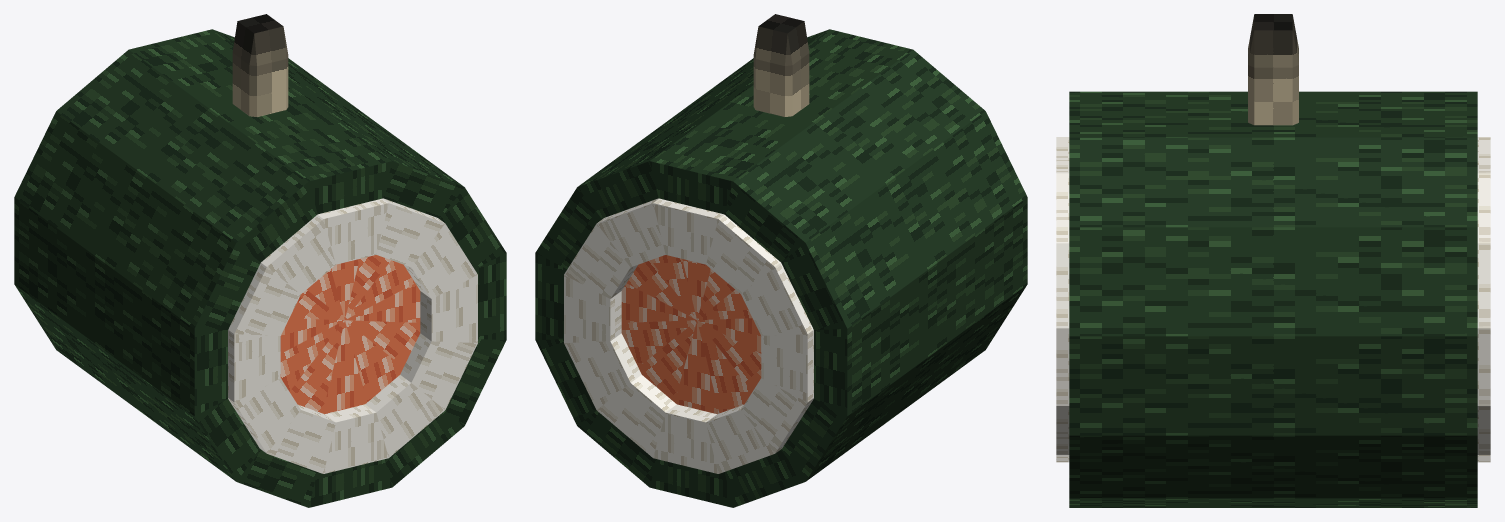
The model's file is sushi.gltf.
3 views of the same model, side by side, from view 1: azimuth 30°, elevation 25°; view 2: azimuth 150°, elevation 25°; view 3: azimuth 270°, elevation 25° (orthographic). The views are drawn at different scales.
Visible parts, largest first — view 1: tube (×2), cylinder, beveled_cuboid; view 2: tube (×2), cylinder, beveled_cuboid; view 3: tube (×2), beveled_cuboid.
Part boxes in pixels (<box>): tube (×2): <box>14,29,506,507</box>; cylinder: <box>280,255,420,414</box>; beveled_cuboid: <box>232,14,288,116</box>; tube (×2): <box>535,29,1027,507</box>; cylinder: <box>621,255,761,414</box>; beveled_cuboid: <box>753,14,809,116</box>; tube (×2): <box>1056,91,1490,507</box>; beveled_cuboid: <box>1248,14,1298,125</box>.
Bounding box in the file's own units: 1 × 1.25 × 1.06.
Materials: 1 (1 with a texture image).
